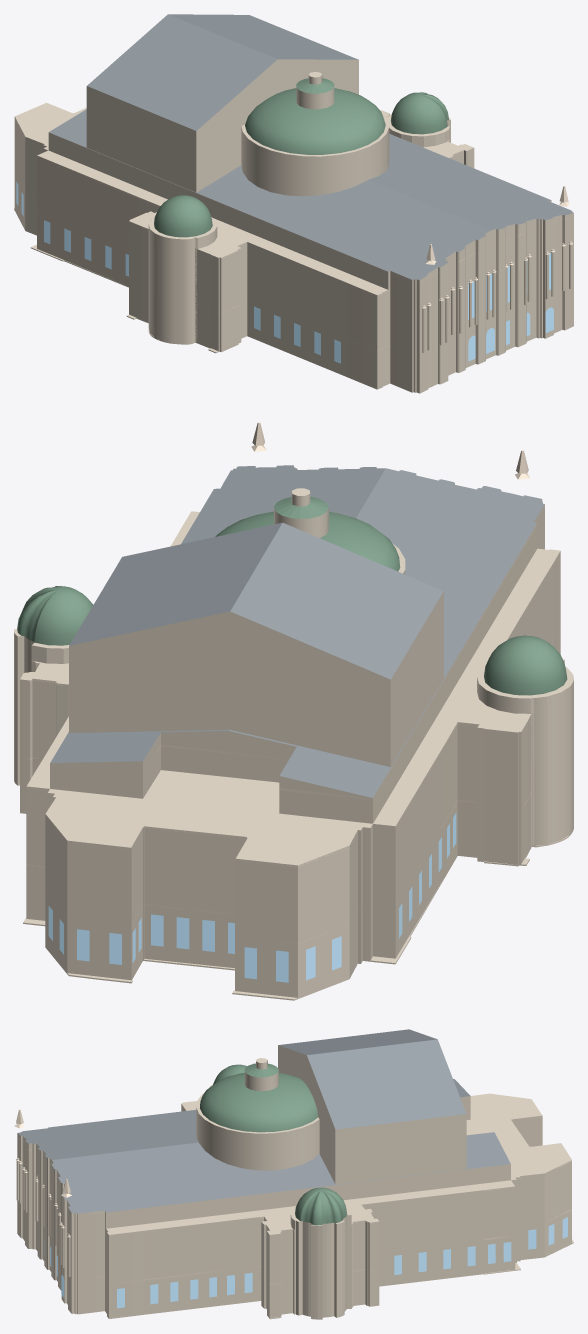
Rendered from detail.glb.
3 views of the same model, one above another, from view 1: azimuth 30°, elevation 25°; view 2: azimuth 150°, elevation 25°; view 3: azimuth 270°, elevation 25° (orthographic). The views are drawn at different scales.
Parts seen in each view (by area): view 1: stone, roof, metal, window, trim; view 2: stone, roof, metal, window, trim; view 3: stone, roof, metal, window, trim.
Boxes of the visible parts, x1,y1,x2,y2 form: stone: [14, 59, 573, 393]; roof: [49, 14, 573, 280]; metal: [154, 78, 448, 237]; window: [16, 181, 553, 363]; trim: [14, 117, 573, 350]; stone: [14, 465, 573, 1000]; roof: [50, 465, 544, 797]; metal: [17, 496, 567, 695]; window: [48, 812, 456, 982]; trim: [26, 422, 564, 944]; stone: [16, 1045, 573, 1319]; roof: [18, 1029, 510, 1213]; metal: [200, 1063, 347, 1225]; window: [44, 1217, 567, 1308]; trim: [14, 1104, 571, 1284].
Bounding box in the file's own units: 98.16 × 58 × 157.
